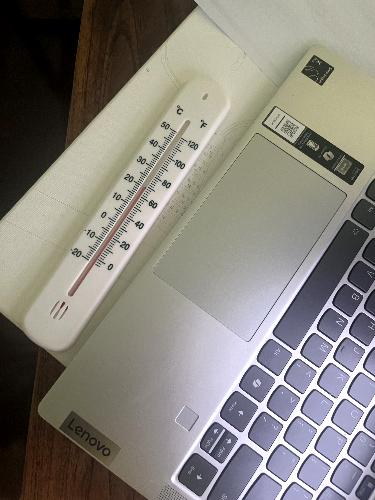thermo: (15, 72, 243, 359)
